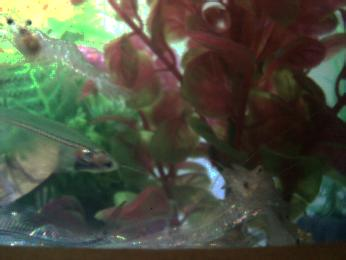glassfish: (1, 105, 120, 176), (1, 195, 127, 249)
siberian prawn: (6, 15, 131, 100), (219, 160, 301, 245)
